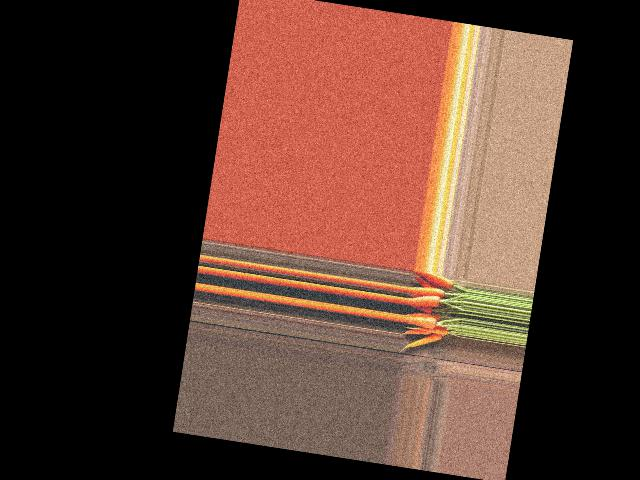carrot: (374, 338, 445, 377)
